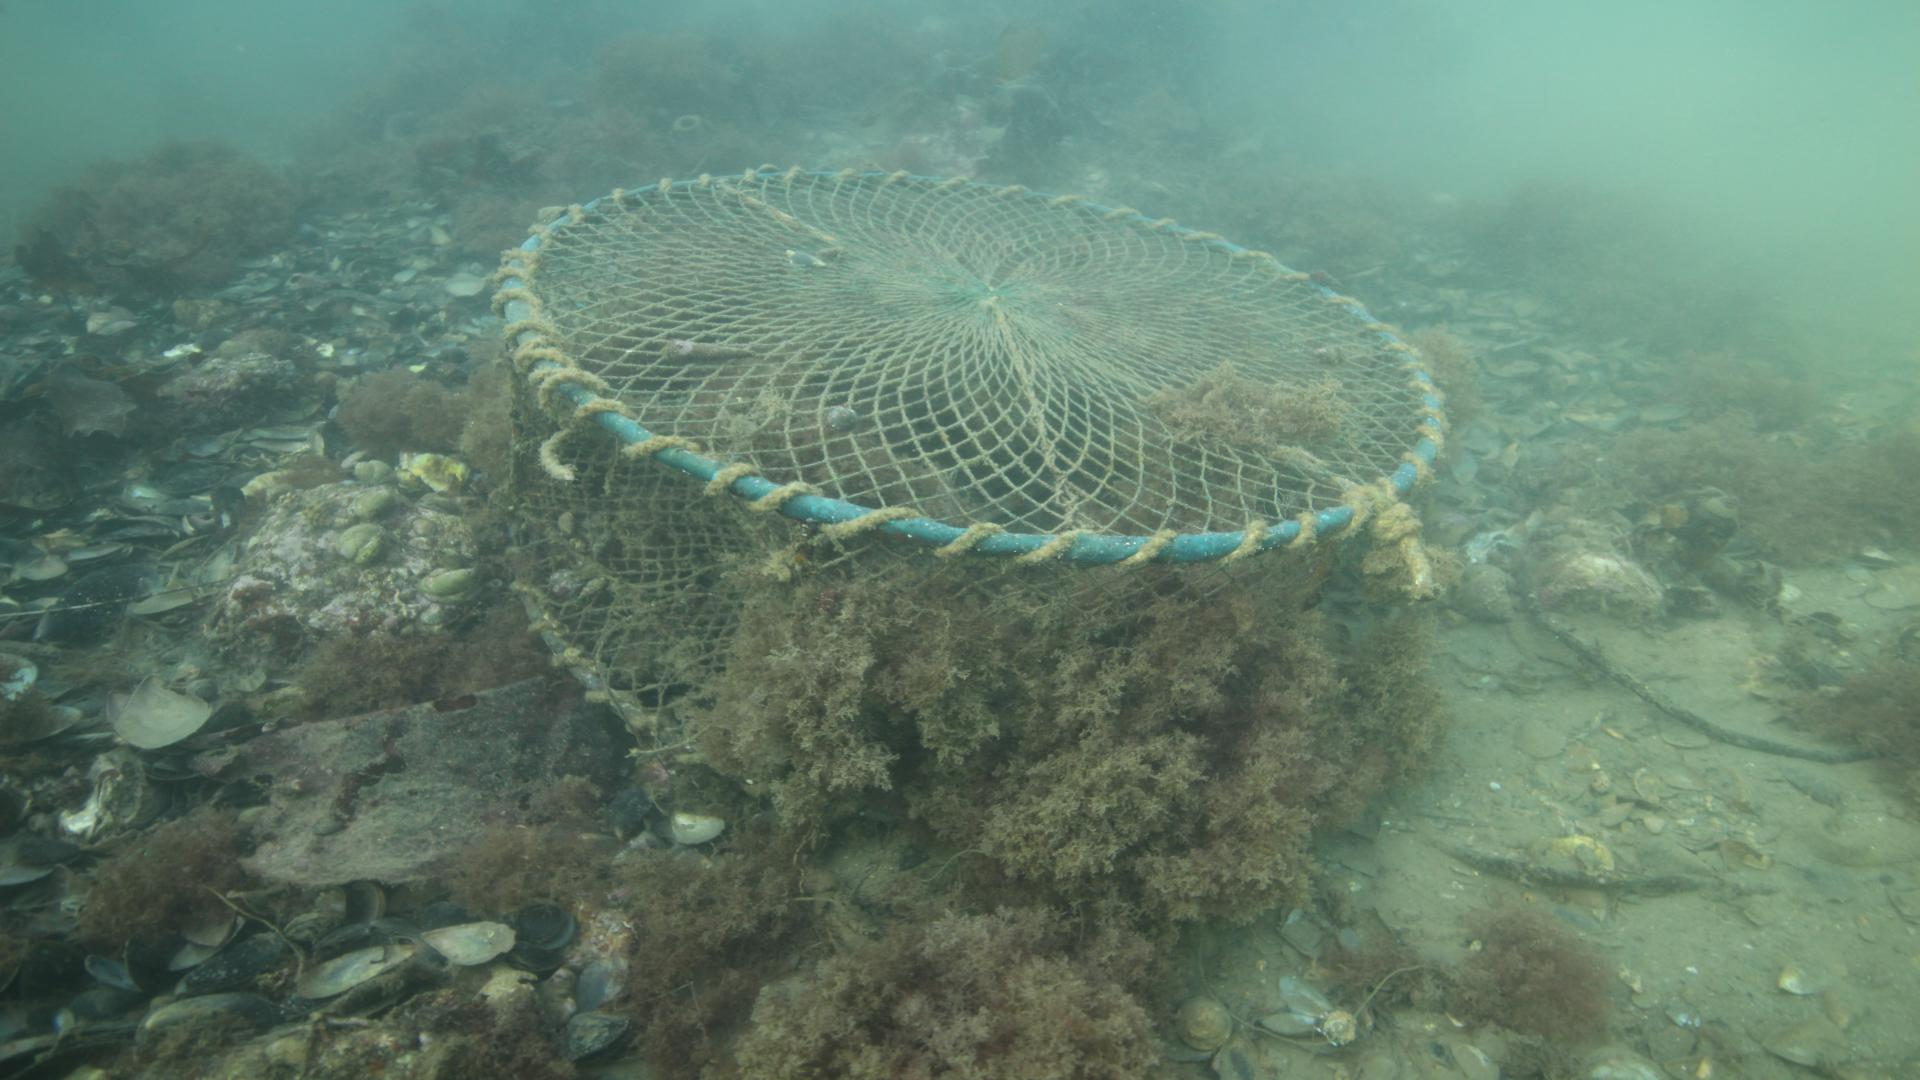circular fish trap: (487, 162, 1447, 796)
